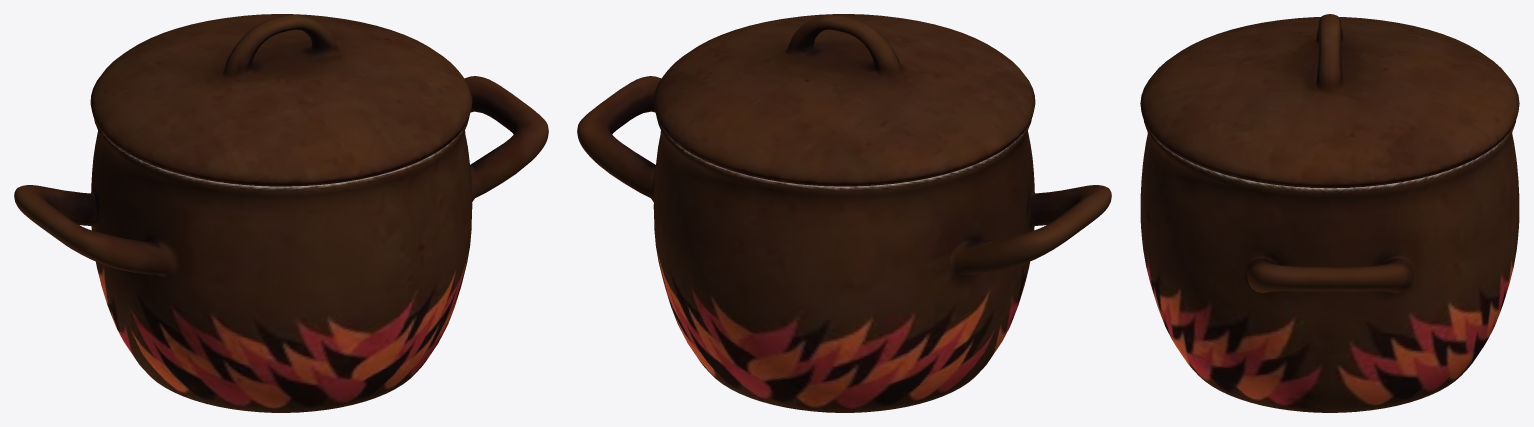
File: pot_enamel_01.glb
The picture shows the model from 3 angles, left to right: view 1: azimuth 30°, elevation 25°; view 2: azimuth 150°, elevation 25°; view 3: azimuth 270°, elevation 25°; orthographic projection.
Parts seen in each view (by area): view 1: pot_enamel_01_lid; view 2: pot_enamel_01_lid; view 3: pot_enamel_01_lid.
Part boxes in pixels (box(x1,y1,x2,y2)): pot_enamel_01_lid: box(14, 14, 548, 412); pot_enamel_01_lid: box(577, 14, 1111, 412); pot_enamel_01_lid: box(1140, 14, 1519, 412).
Bounding box in the file's own units: 0.2627 × 0.1782 × 0.1805.
Materials: 1 (1 with a texture image).
